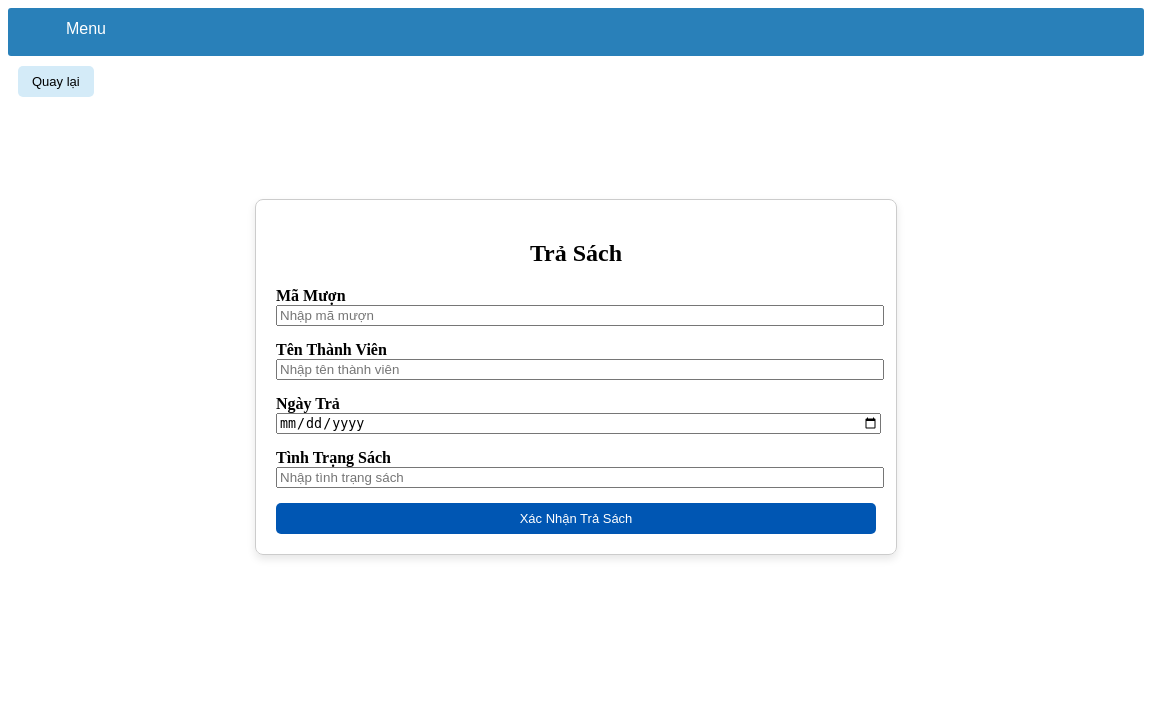
Test: Chức năng Trả Sách › TC_017 - Trả sách không thành công (Mã mượn không tồn tại)
# Nhập mã mượn không tồn tại
Type "9999" into the number field named "muonId". click: (580, 316)
box: [276, 305, 884, 326]
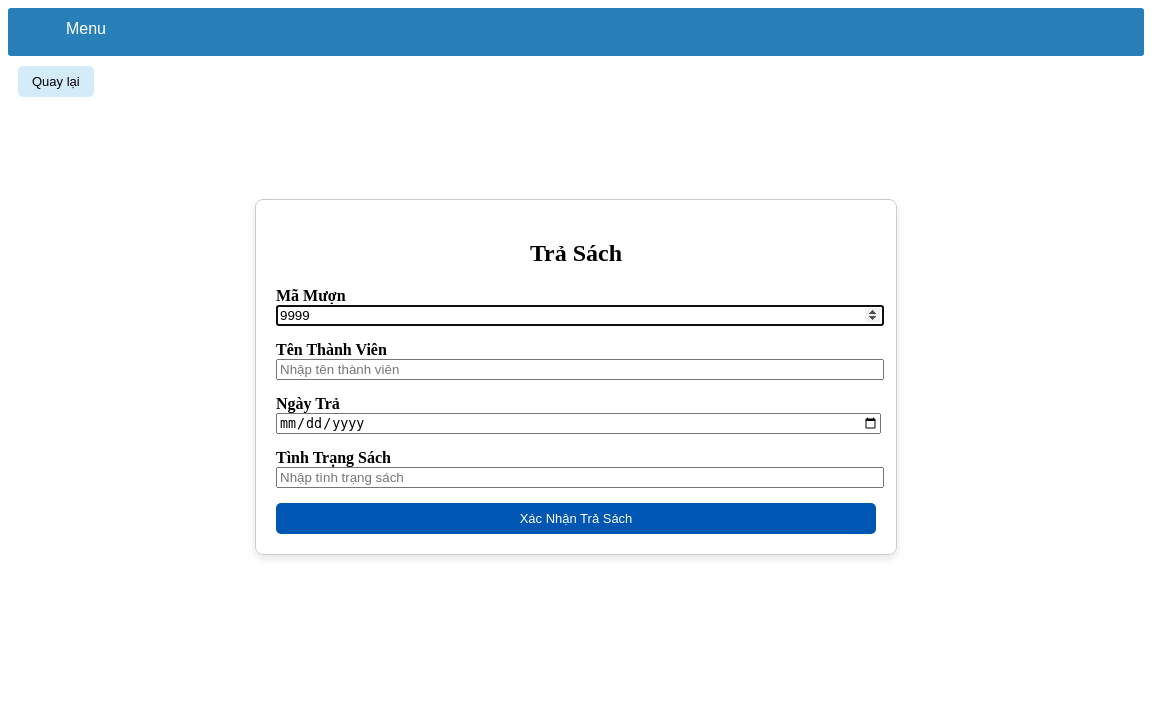
Type "Không Tồn Tại" into the field named "tenThanhVien". click: (580, 370)
box: [276, 359, 884, 380]
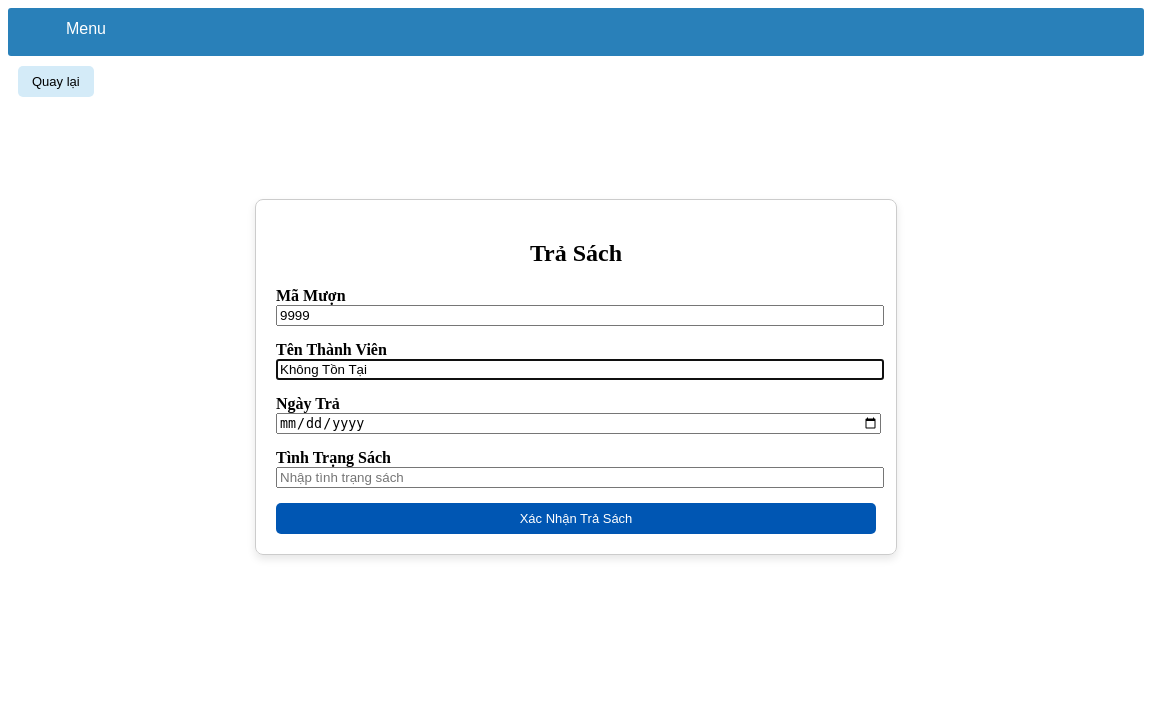
Type "2025-03-20" into the date field named "ngayTra". click: (579, 424)
box: [276, 413, 881, 434]
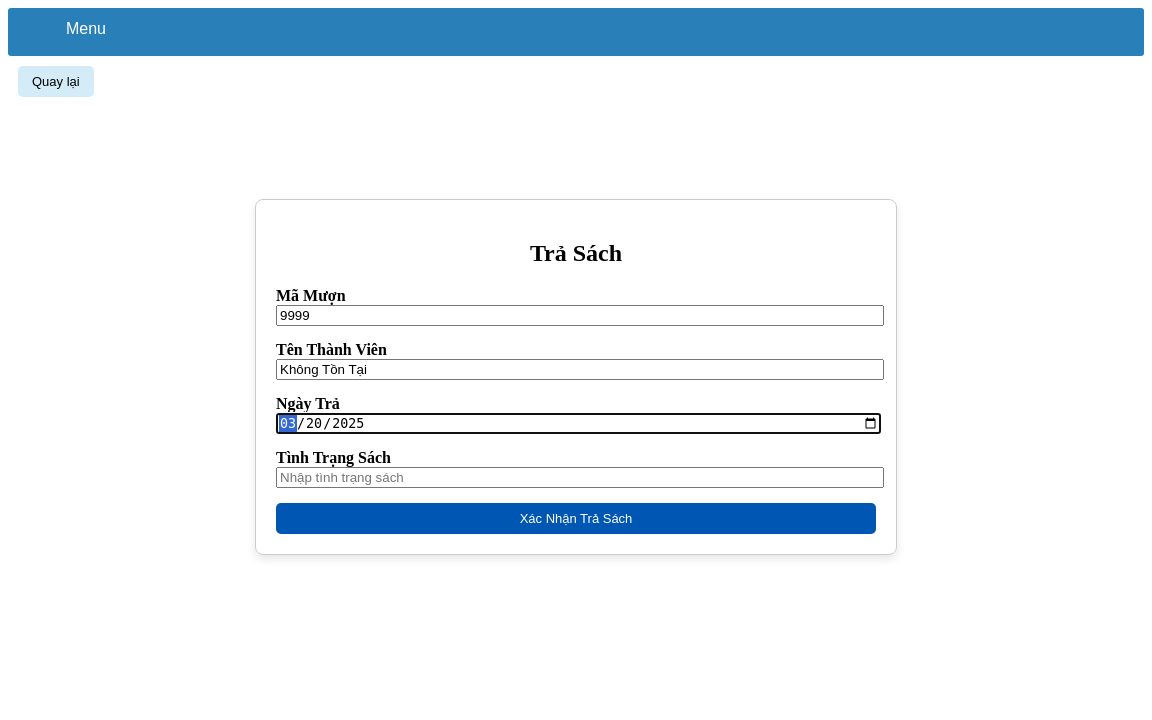
Type "Hỏng" into the field named "tinhTrangSach". click: (580, 478)
box: [276, 467, 884, 488]
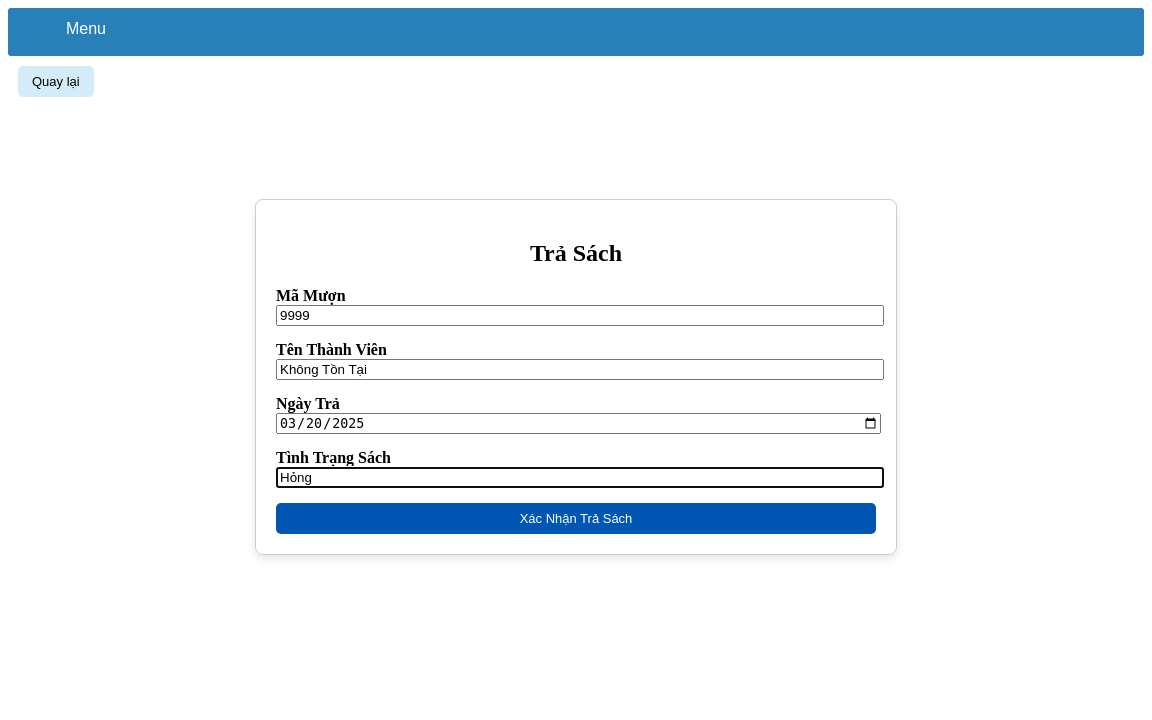
# Nhấn nút "Xác nhận trả"
Click the button "Xác Nhận Trả Sách". click: click(576, 519)
box: [276, 503, 876, 534]
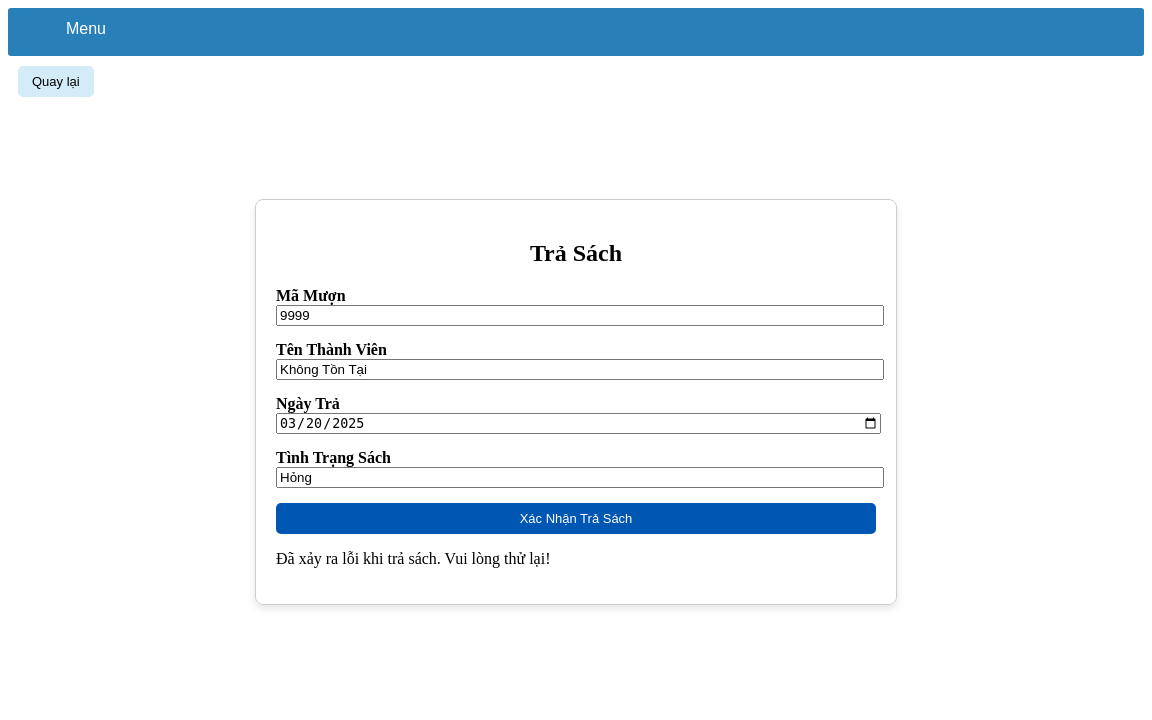
Result: the text "Đã xảy ra lỗi khi trả sách. Vui lòng thử lại!" is shown at [276, 550, 550, 567]
